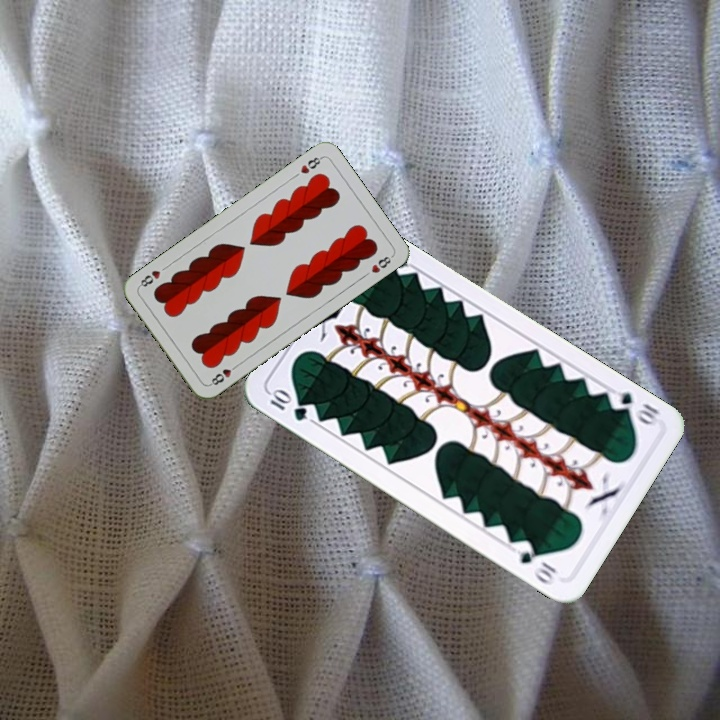G10: (604, 385, 662, 428), (266, 386, 310, 424)
H8: (205, 360, 241, 388), (296, 152, 325, 176)
